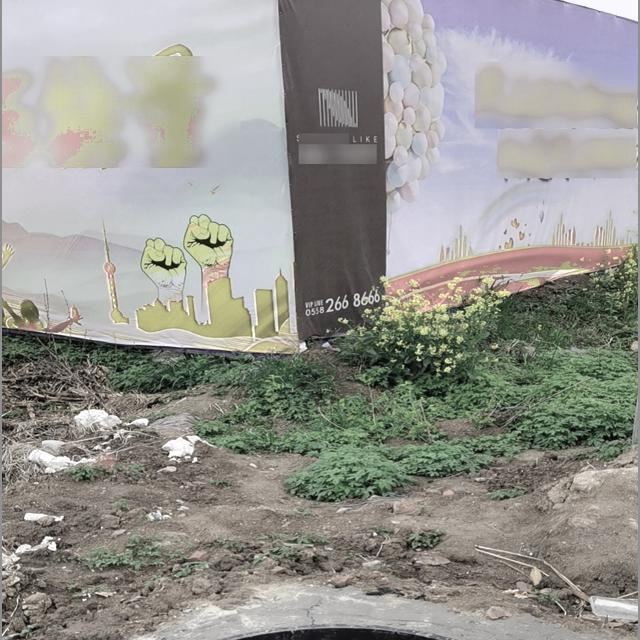lose: (54, 622, 593, 640)
